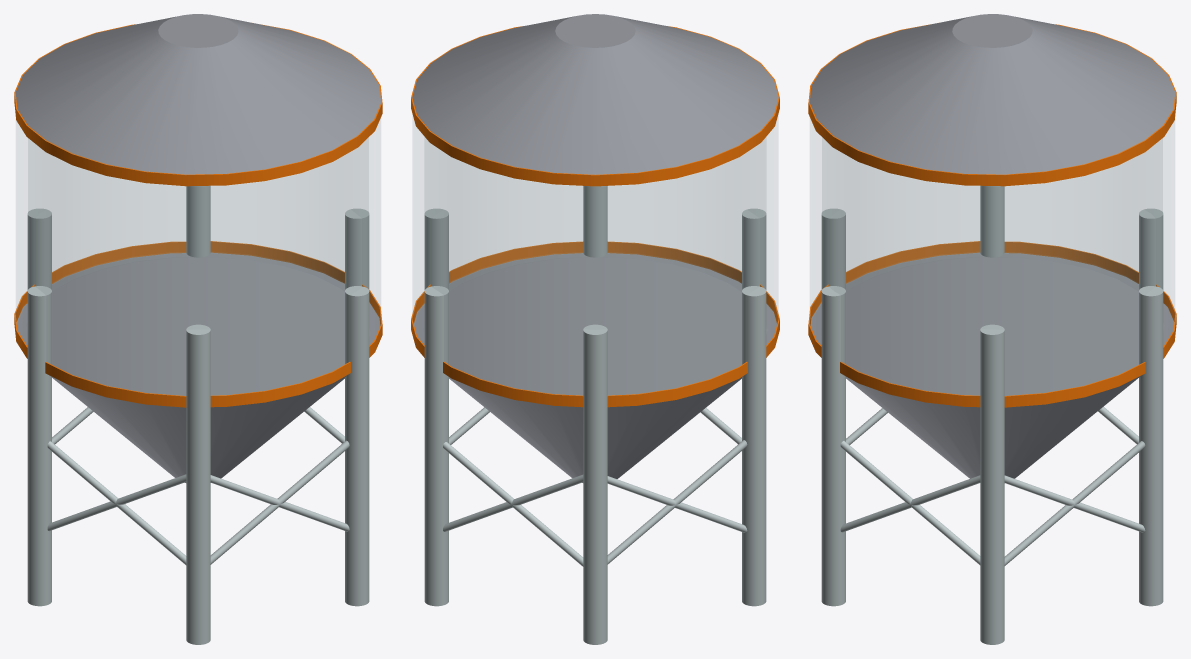
File: 储液罐.FBX
3 renders of one model, left to right at view 1: azimuth 30°, elevation 25°; view 2: azimuth 150°, elevation 25°; view 3: azimuth 270°, elevation 25°, orthographic.
Visible parts, largest first — view 1: Circle041, Circle039, Circle045, Circle037, Circle064, Circle065, Circle054, Circle059, Circle055, Circle058; view 2: Circle041, Circle039, Circle045, Circle037, Circle064, Circle065, Circle061, Circle051, Circle060, Circle050; view 3: Circle041, Circle039, Circle045, Circle037, Circle064, Circle065, Circle056, Circle053, Circle057, Circle052.
Boxes of the visible parts, box(x1,y1,x2,y2) form: Circle041: box(16, 119, 380, 395); Circle039: box(16, 252, 380, 482); Circle045: box(15, 14, 381, 174); Circle037: box(27, 185, 369, 644); Circle064: box(14, 241, 382, 407); Circle065: box(14, 23, 382, 186); Circle054: box(47, 441, 186, 565); Circle059: box(210, 440, 349, 564); Circle055: box(47, 474, 186, 531); Circle058: box(210, 475, 349, 531); Circle041: box(413, 119, 777, 394); Circle039: box(414, 253, 776, 482); Circle045: box(412, 14, 778, 174); Circle037: box(424, 186, 766, 644); Circle064: box(411, 241, 779, 407); Circle065: box(411, 25, 779, 186); Circle061: box(443, 442, 583, 566); Circle051: box(607, 440, 747, 564); Circle060: box(443, 474, 583, 531); Circle050: box(607, 476, 747, 532); Circle041: box(810, 119, 1174, 395); Circle039: box(810, 252, 1174, 478); Circle045: box(809, 14, 1175, 174); Circle037: box(821, 185, 1163, 644); Circle064: box(808, 241, 1176, 407); Circle065: box(808, 23, 1176, 186); Circle056: box(1004, 441, 1145, 565); Circle053: box(840, 441, 980, 565); Circle057: box(1004, 475, 1145, 532); Circle052: box(840, 475, 980, 532).
Bounding box in the file's own units: 25.19 × 37.8 × 23.72.
